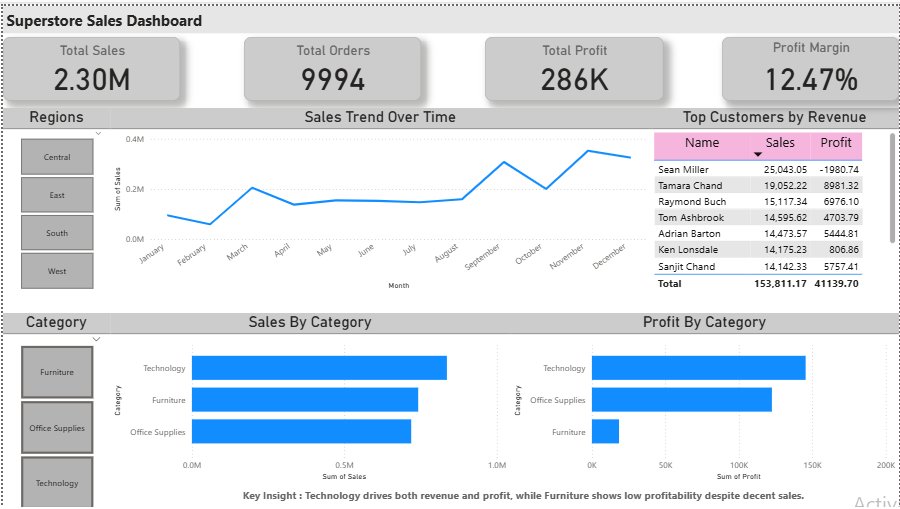

The dashboard page shown, as its layout file describes it:
{"tool":"powerbi","page":{"name":"Dashboard","canvas":[1280,720],"ordinal":0},"visuals":[{"type":"card","title":"Total Sales","fields":{"Values":["Sum(cleaned_data.Sales)"]},"box":[0,44.6,253.4,90.7],"z":0},{"type":"card","title":"Total Profit","fields":{"Values":["Sum(cleaned_data.Profit)"]},"box":[688.3,44.6,254.9,90.7],"z":1000},{"type":"card","title":"Total Orders","fields":{"Values":["CountNonNull(cleaned_data.Order ID)"]},"box":[344.2,44.6,253.4,90.7],"z":2000},{"type":"lineChart","title":"Sales Trend Over Time","fields":{"Y":["Sum(cleaned_data.Sales)"],"Category":["cleaned_data.Order Date.Variation.Date Hierarchy.Month"]},"box":[152.6,145.4,771.8,263.5],"z":3000},{"type":"barChart","title":"Sales By Category","fields":{"Y":["Sum(cleaned_data.Sales)"],"Category":["cleaned_data.Category"]},"box":[152.6,439.2,571.7,243.4],"z":4000},{"type":"barChart","title":"Profit By Category","fields":{"Category":["cleaned_data.Category"],"Y":["Sum(cleaned_data.Profit)"]},"box":[724.3,439.2,555.8,243.4],"z":5000},{"type":"slicer","title":"Regions","fields":{"Values":["cleaned_data.Region"]},"box":[0,145.4,152.6,263.5],"z":6000},{"type":"tableEx","title":"Top Customers by Revenue","fields":{"Values":["cleaned_data.Customer Name","Sum(cleaned_data.Sales)","Sum(cleaned_data.Profit)"]},"box":[943.2,145.4,337,263.5],"z":7000},{"type":"card","title":"Profit Margin","fields":{"Values":["cleaned_data.Profit Margin"]},"box":[1026.7,44.6,253.4,90.7],"z":8000},{"type":"slicer","title":"Category","fields":{"Values":["cleaned_data.Category"]},"box":[0,439.2,152.6,280.8],"z":9000},{"type":"textbox","box":[316.8,682.6,852.5,37.4],"z":10000},{"type":"textbox","box":[0,0,1280.2,38.9],"z":11000}]}

Visuals, with their boxes in screenshot pixels (x1, y1, x2, y2), scaled from the page's 1280x720 canvas onto the 900x509 screenshot:
"Total Sales" card: BBox(0, 32, 178, 96)
"Total Profit" card: BBox(484, 32, 663, 96)
"Total Orders" card: BBox(242, 32, 420, 96)
"Sales Trend Over Time" lineChart: BBox(107, 103, 650, 289)
"Sales By Category" barChart: BBox(107, 310, 509, 483)
"Profit By Category" barChart: BBox(509, 310, 899, 483)
"Regions" slicer: BBox(0, 103, 107, 289)
"Top Customers by Revenue" tableEx: BBox(663, 103, 899, 289)
"Profit Margin" card: BBox(722, 32, 899, 96)
"Category" slicer: BBox(0, 310, 107, 508)
textbox: BBox(223, 483, 822, 508)
textbox: BBox(0, 0, 899, 28)
